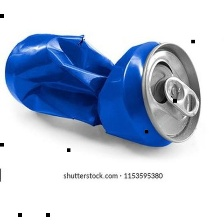can: (2, 27, 206, 152)
